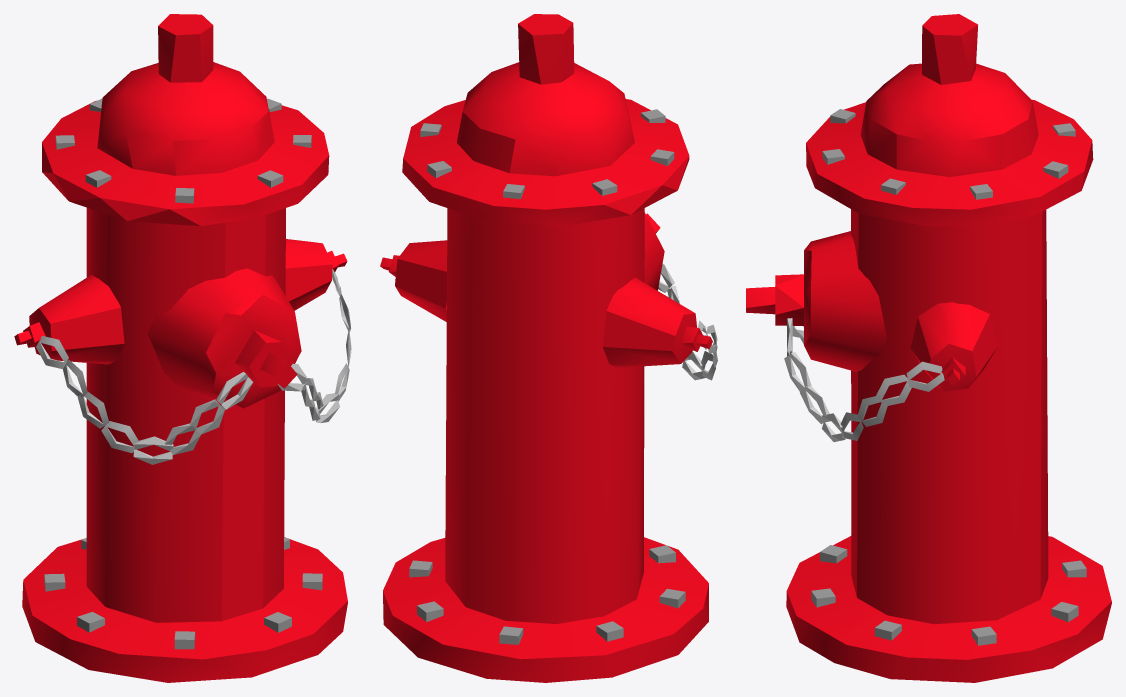
Rendered from HidranteLOD1 - Copy.fbx.
The picture shows the model from 3 angles, left to right: view 1: azimuth 30°, elevation 25°; view 2: azimuth 150°, elevation 25°; view 3: azimuth 270°, elevation 25°; orthographic projection.
Parts seen in each view (by area): view 1: HidranteLOD1; view 2: HidranteLOD1; view 3: HidranteLOD1.
Part boxes in pixels (x1,y1,x2,y2): HidranteLOD1: [14, 14, 351, 682]; HidranteLOD1: [380, 14, 717, 682]; HidranteLOD1: [746, 14, 1111, 682].
Size of the model in its own units: 34.19 by 58.93 by 33.15.
